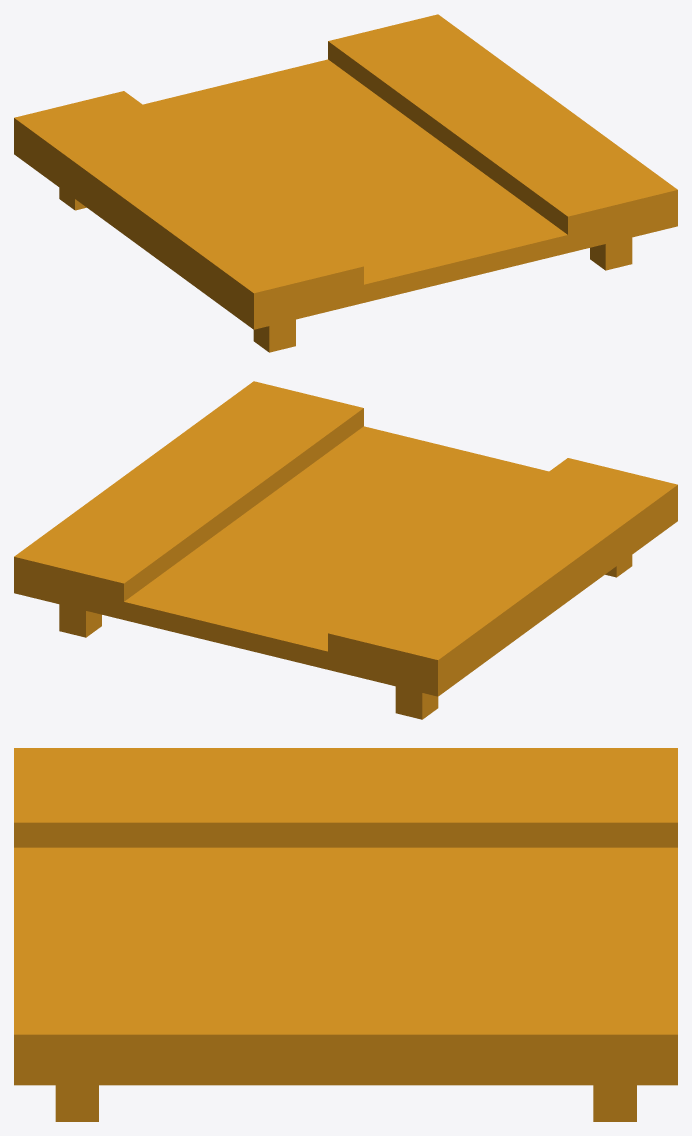
File: Stand.fbx
The picture shows the model from 3 angles, top to bottom: view 1: azimuth 30°, elevation 25°; view 2: azimuth 150°, elevation 25°; view 3: azimuth 270°, elevation 25°; orthographic projection. The views are drawn at different scales.
Visible parts, largest first — view 1: Stand; view 2: Stand; view 3: Stand.
Boxes of the visible parts, <box> form: Stand: <box>14,14,677,352</box>; Stand: <box>14,381,677,719</box>; Stand: <box>14,748,677,1121</box>.
Bounding box in the file's own units: 110 × 19.24 × 107.
